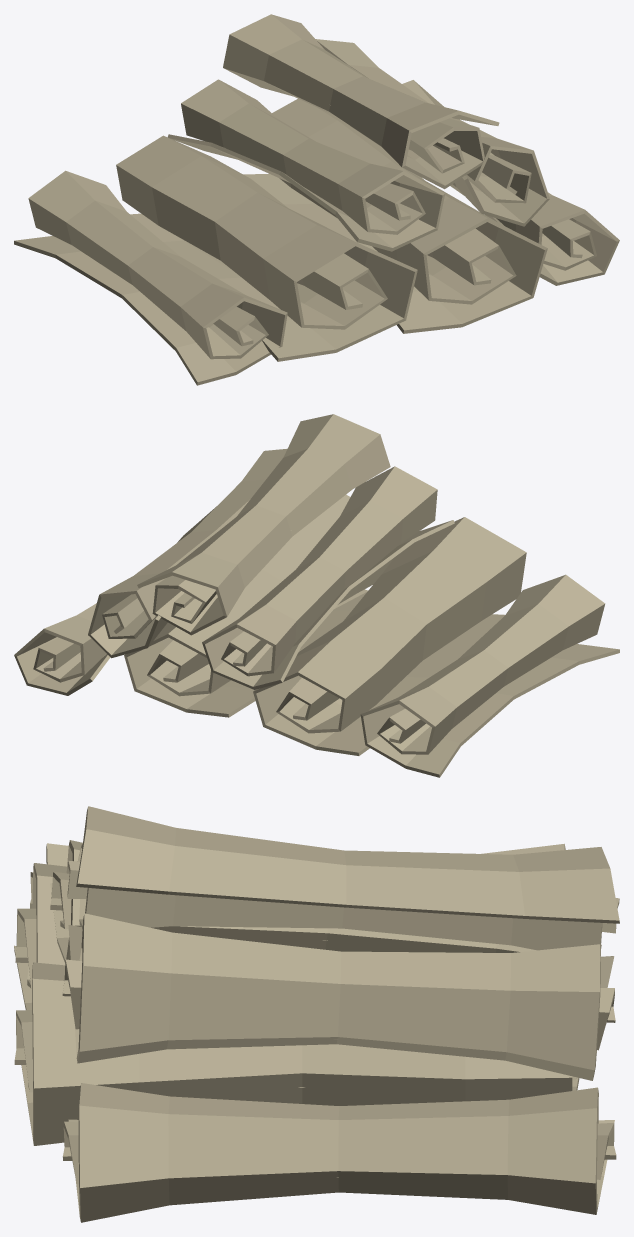
File: scroll_heap.gltf
3 views of the same model, one above another, from view 1: azimuth 30°, elevation 25°; view 2: azimuth 150°, elevation 25°; view 3: azimuth 270°, elevation 25° (orthographic). The views are drawn at different scales.
Visible parts, largest first — view 1: Scroll_Stack; view 2: Scroll_Stack; view 3: Scroll_Stack.
Part boxes in pixels (x1,y1,x2,y2): Scroll_Stack: [14, 14, 619, 385]; Scroll_Stack: [14, 414, 619, 777]; Scroll_Stack: [14, 806, 619, 1222].
Bounding box in the file's own units: 0.6418 × 0.2763 × 0.521.
Materials: 1 (1 with a texture image).
